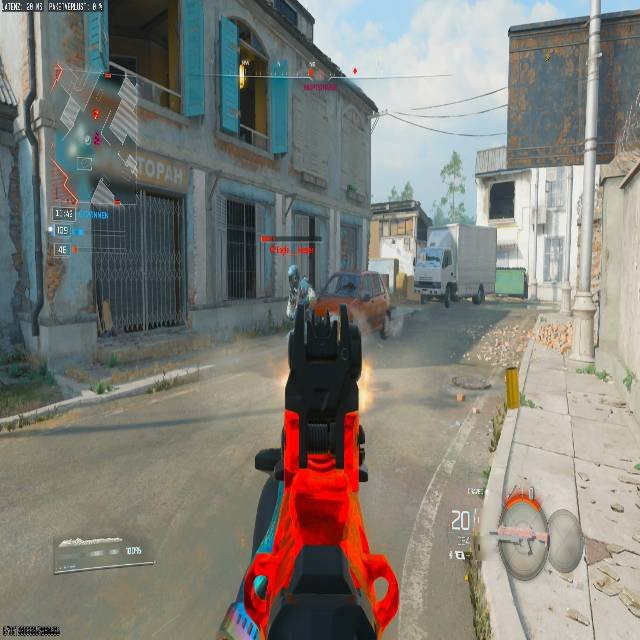head: (287, 264, 298, 284)
player: (284, 266, 313, 328), (287, 267, 306, 297)
